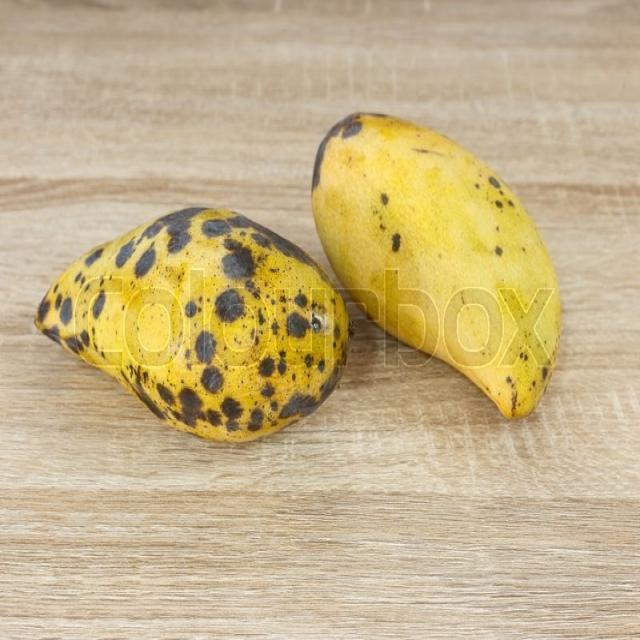Mango: (310, 110, 562, 420), (34, 204, 352, 443)
